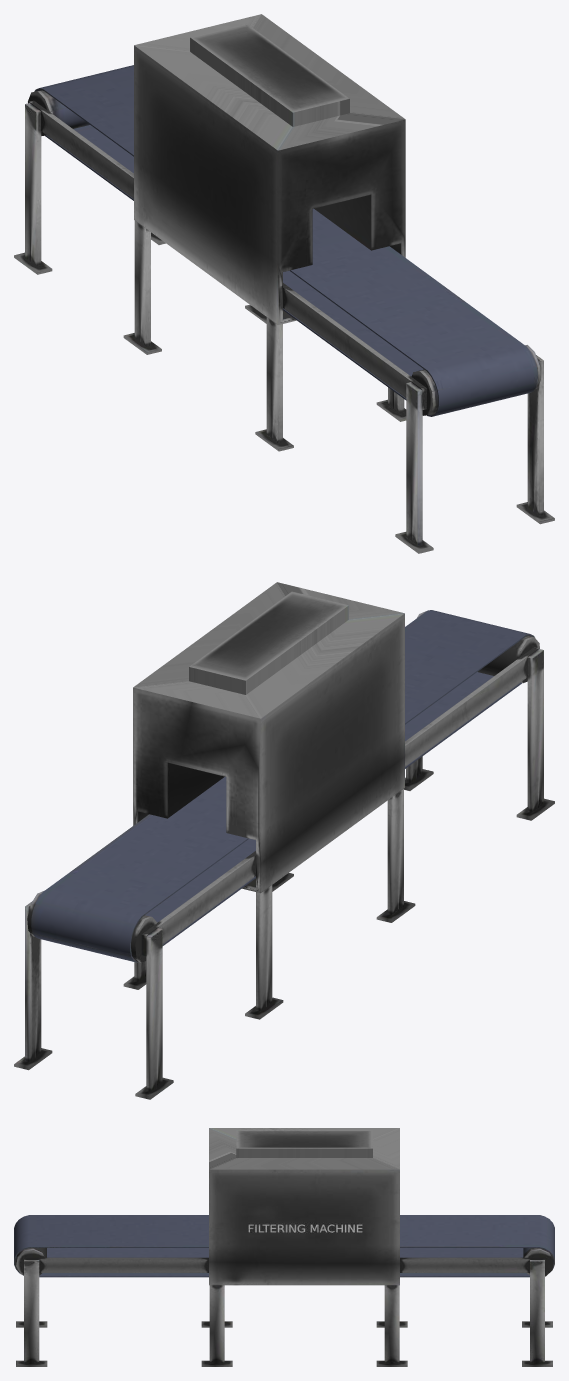
The model's file is FILTERING MACHINE.fbx.
3 views of the same model, one above another, from view 1: azimuth 30°, elevation 25°; view 2: azimuth 150°, elevation 25°; view 3: azimuth 270°, elevation 25° (orthographic). The views are drawn at different scales.
Visible parts, largest first — view 1: sos_game_play_models:polySurface66; view 2: sos_game_play_models:polySurface66; view 3: sos_game_play_models:polySurface66.
Boxes of the visible parts, x1=… form: sos_game_play_models:polySurface66: x1=14, y1=14, x2=554, y2=553; sos_game_play_models:polySurface66: x1=14, y1=582, x2=554, y2=1099; sos_game_play_models:polySurface66: x1=14, y1=1128, x2=554, y2=1366.
Size of the model in its own units: 70 by 152 by 363.
1 material, 1 textured.
